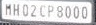character: (56, 4, 64, 17), (29, 3, 36, 16), (64, 5, 71, 18), (81, 6, 88, 19), (5, 3, 12, 15), (47, 4, 54, 16), (13, 3, 19, 16), (22, 3, 28, 16), (73, 5, 79, 18), (39, 4, 45, 16)
